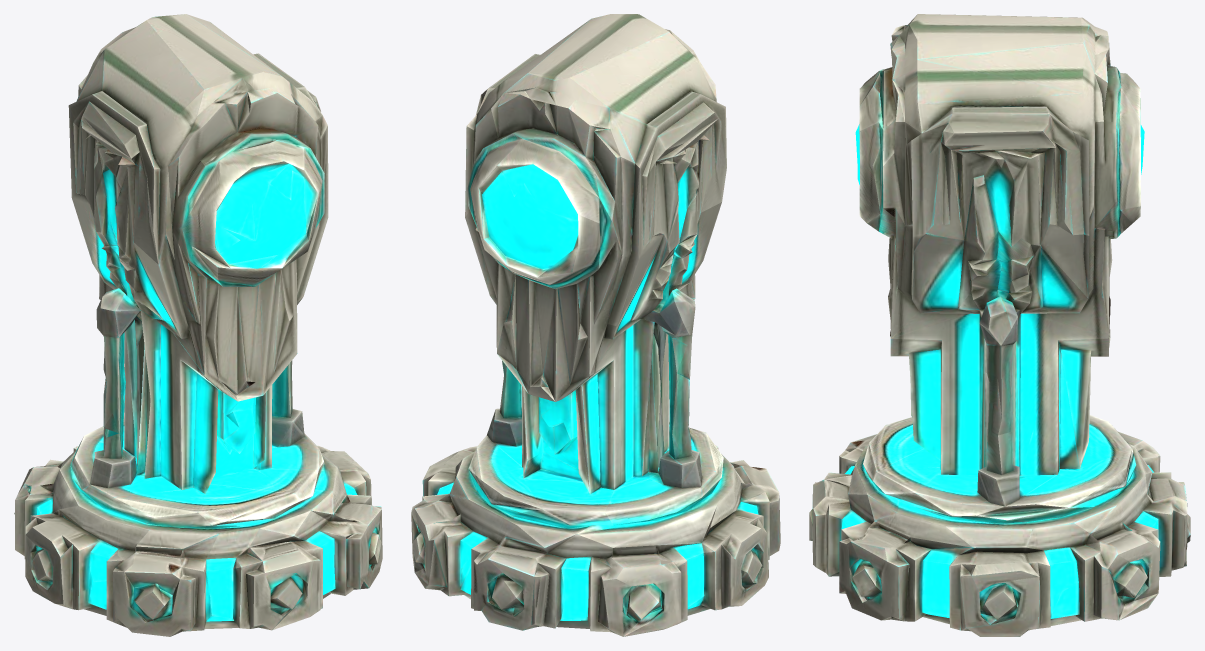
The model's file is aegis-generator.glb.
3 renders of one model, left to right at view 1: azimuth 30°, elevation 25°; view 2: azimuth 150°, elevation 25°; view 3: azimuth 270°, elevation 25°, orthographic. The views are drawn at different scales.
Bounding box in the file's own units: 1.21 × 1.9 × 1.21.
Materials: 1 (1 with a texture image).
